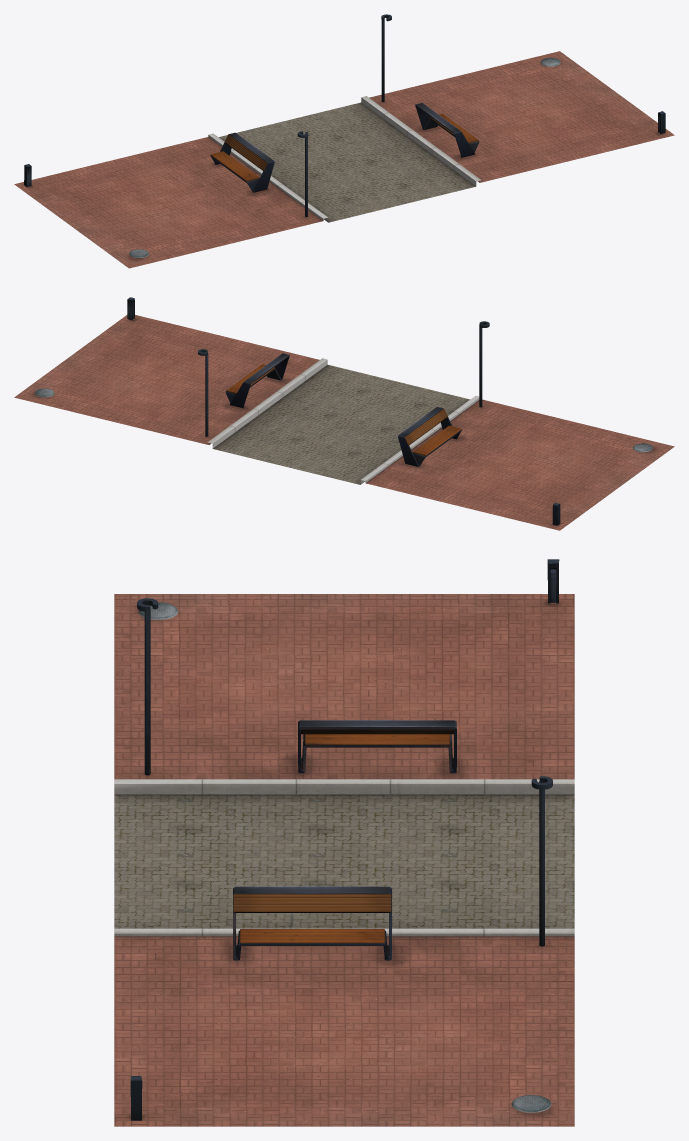
File: street_4.glb
3 views of the same model, one above another, from view 1: azimuth 30°, elevation 25°; view 2: azimuth 150°, elevation 25°; view 3: azimuth 270°, elevation 25° (orthographic). The views are drawn at different scales.
Parts seen in each view (by area): view 1: street_4; view 2: street_4; view 3: street_4.
Boxes of the visible parts, x1,y1,x2,y2 form: street_4: (14,14,674,268); street_4: (14,297,674,530); street_4: (114,559,574,1126).
Size of the model in its own units: 21.91 by 3.35 by 8.
Materials: 1 (1 with a texture image).
